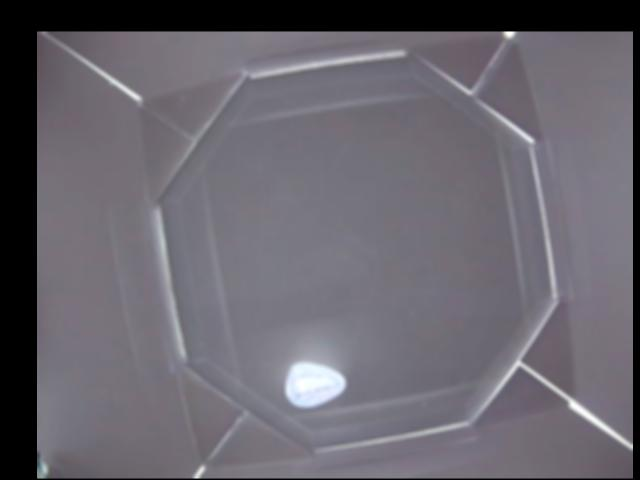Pebble: (282, 363, 343, 406)
